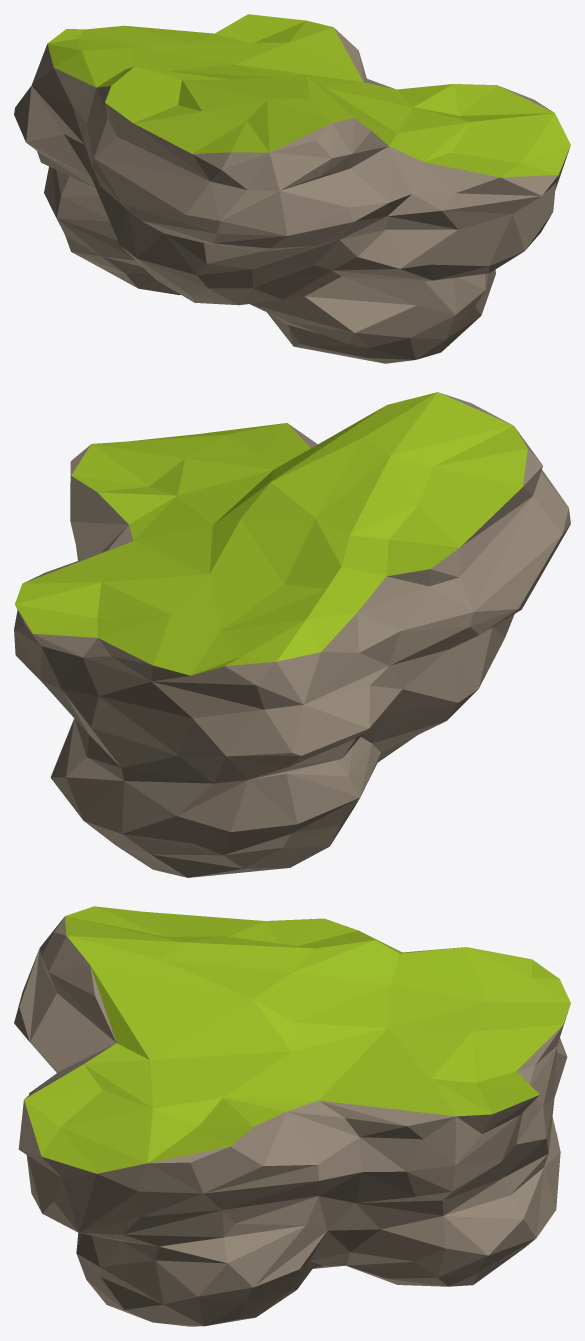
The model's file is village_pack_rock_7.glb.
3 renders of one model, top to bottom at view 1: azimuth 30°, elevation 25°; view 2: azimuth 150°, elevation 25°; view 3: azimuth 270°, elevation 25°, orthographic. The views are drawn at different scales.
Parts seen in each view (by area): view 1: rock 7_grass 1_0; view 2: rock 7_grass 1_0; view 3: rock 7_grass 1_0.
Part boxes in pixels (box(x1,y1,x2,y2)): rock 7_grass 1_0: box(14, 14, 570, 363); rock 7_grass 1_0: box(14, 392, 570, 877); rock 7_grass 1_0: box(14, 906, 570, 1326).
Size of the model in its own units: 10.12 by 7.11 by 11.12.
